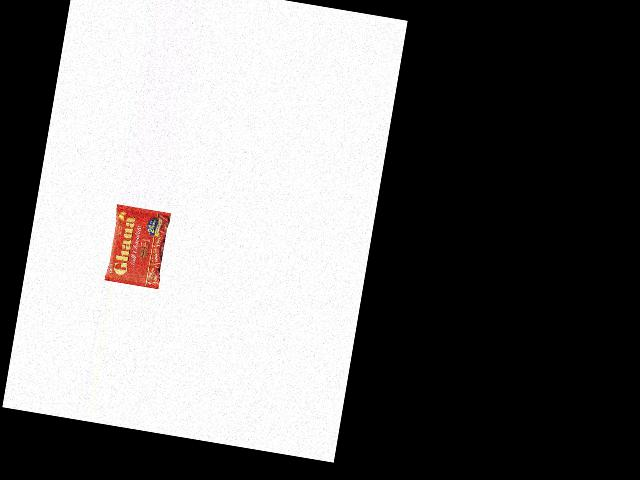chocolate: (105, 203, 173, 288)
